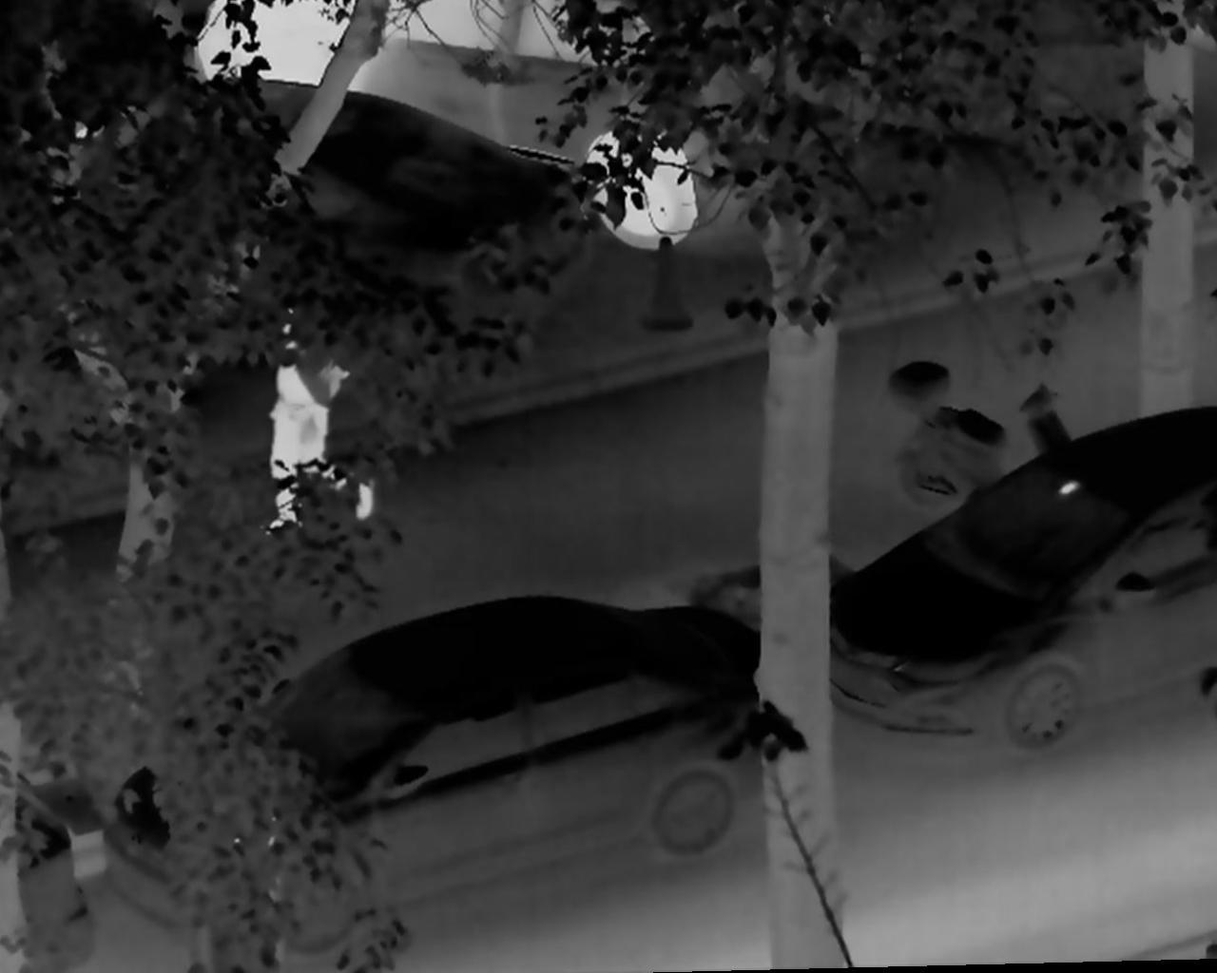person: (244, 307, 381, 543)
